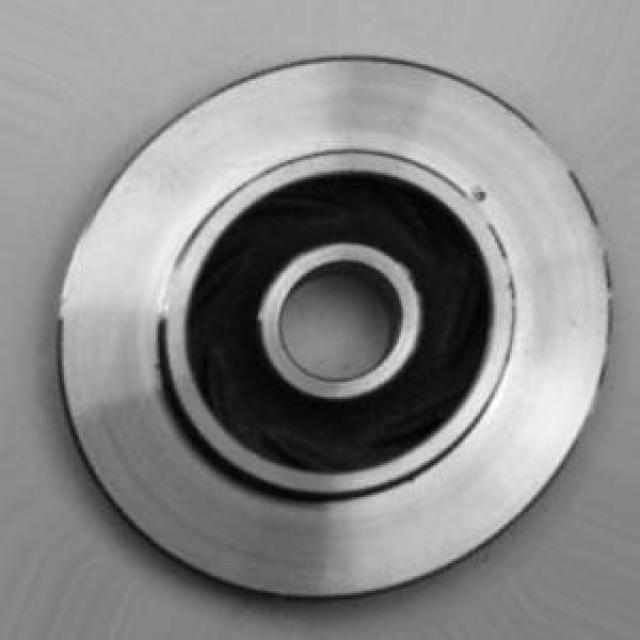Defect: (460, 178, 503, 214)
